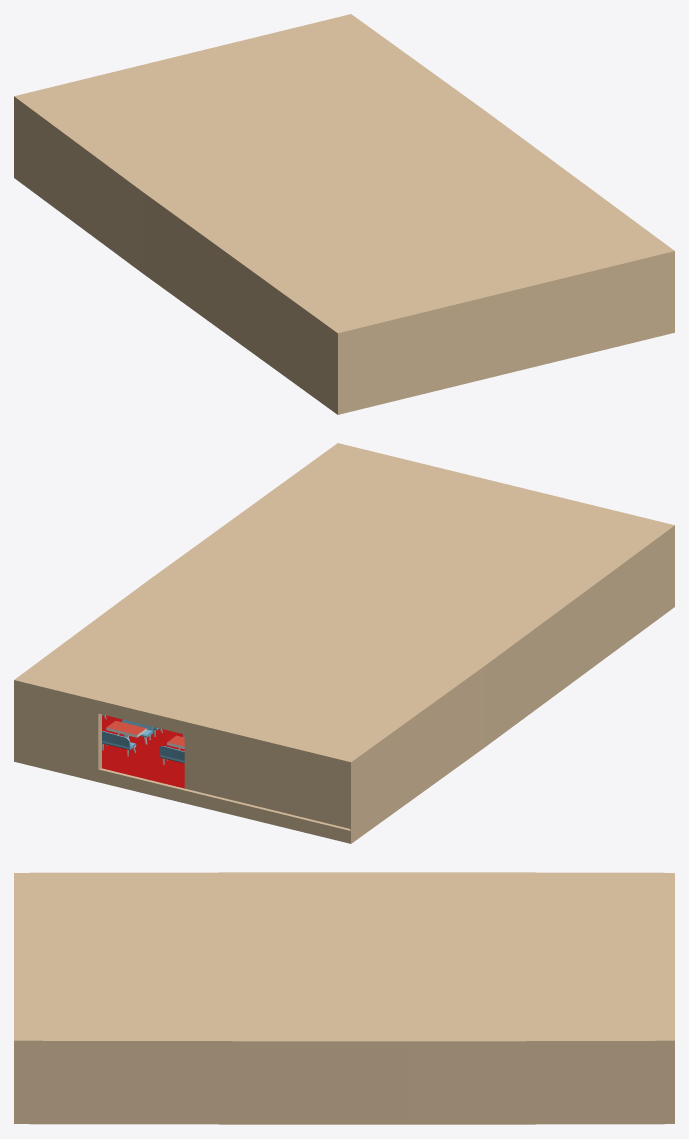
The model's file is Restaurant scene.fbx.
The picture shows the model from 3 angles, top to bottom: view 1: azimuth 30°, elevation 25°; view 2: azimuth 150°, elevation 25°; view 3: azimuth 270°, elevation 25°; orthographic projection. The views are drawn at different scales.
Parts seen in each view (by area): view 1: Cube; view 2: Cube; view 3: Cube.
Part boxes in pixels (x1,y1,x2,y2): Cube: [14, 14, 674, 414]; Cube: [14, 443, 674, 843]; Cube: [14, 872, 674, 1124].
Size of the model in its own units: 5518 by 1267 by 9105.
